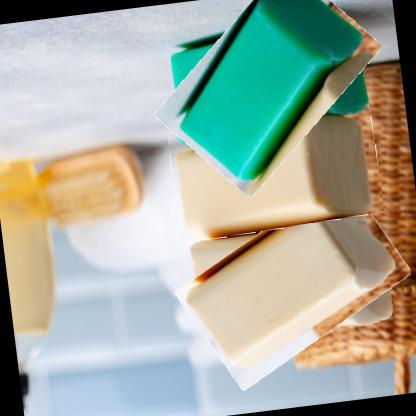soap: (172, 188, 412, 375), (148, 0, 389, 183), (167, 102, 385, 242)
